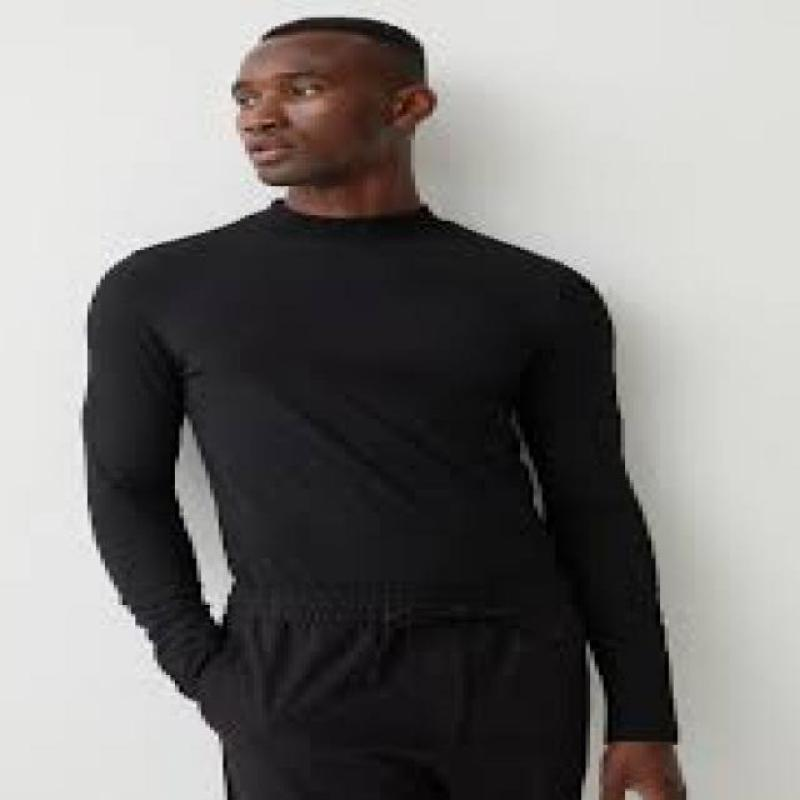long sleeve shirt: (79, 198, 678, 747)
trousers: (203, 577, 593, 800)
